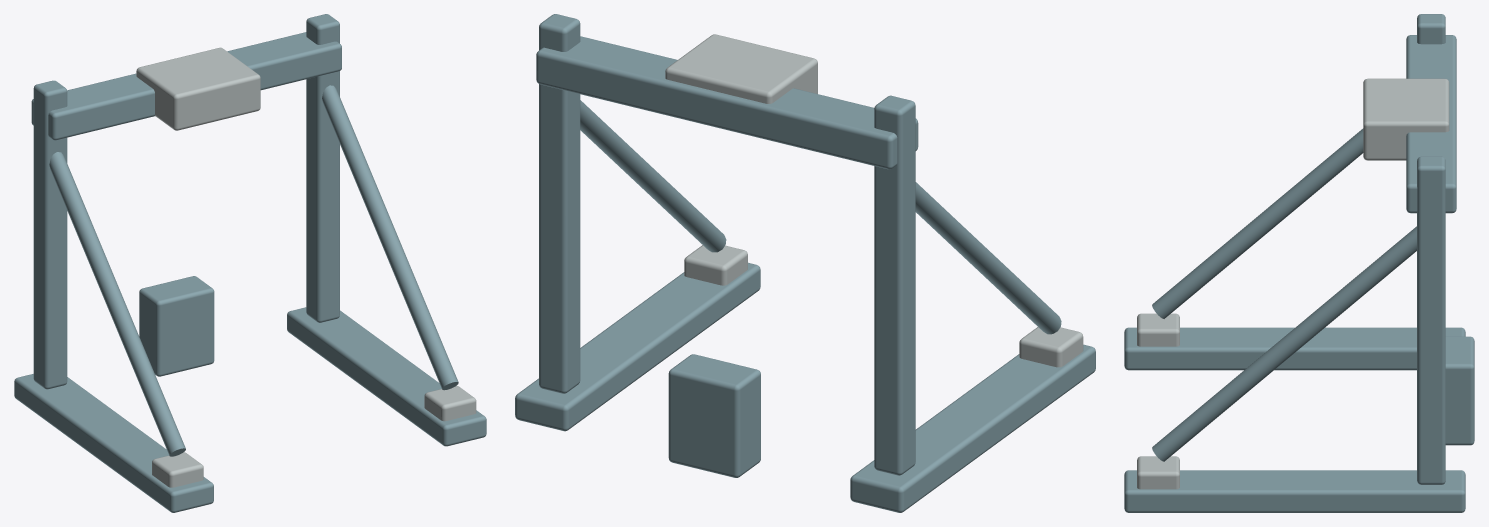
File: abandoned-tidal-model-testing-hall-paddle-support-fram-6dfabdf0__32342.glb
3 views of the same model, side by side, from view 1: azimuth 30°, elevation 25°; view 2: azimuth 150°, elevation 25°; view 3: azimuth 270°, elevation 25° (orthographic). The views are drawn at different scales.
Parts seen in each view (by area): view 1: paddle-support-frame; view 2: paddle-support-frame; view 3: paddle-support-frame.
Part boxes in pixels (bbox=[...]): paddle-support-frame: bbox=[14, 14, 486, 512]; paddle-support-frame: bbox=[515, 14, 1095, 512]; paddle-support-frame: bbox=[1124, 14, 1474, 512].
Bounding box in the file's own units: 1.09 × 1.05 × 0.975.
